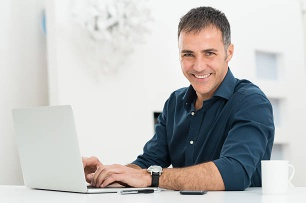male: (177, 18, 231, 94)
